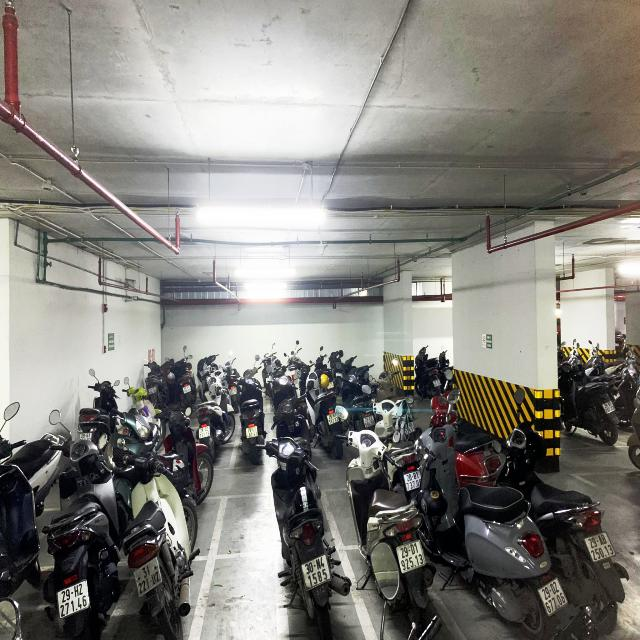license_plate: (57, 580, 90, 621), (133, 557, 164, 599), (302, 553, 333, 592), (396, 539, 428, 575), (246, 427, 259, 439), (199, 427, 211, 440)
